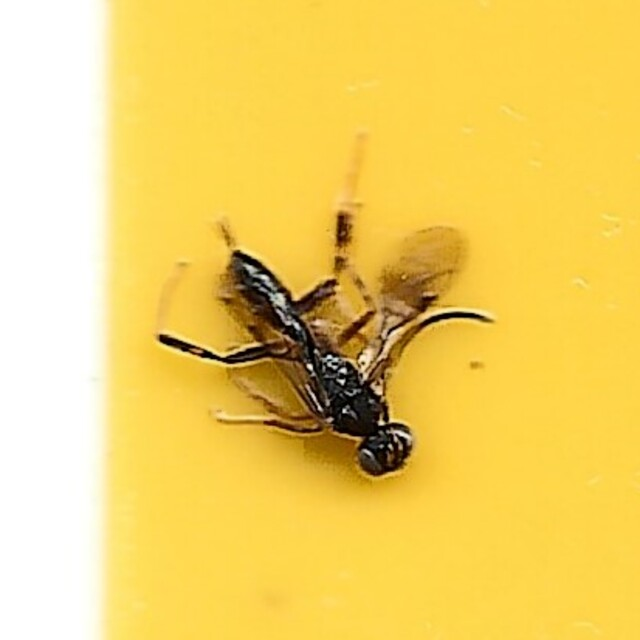Hymenoptera: (155, 154, 485, 486)
